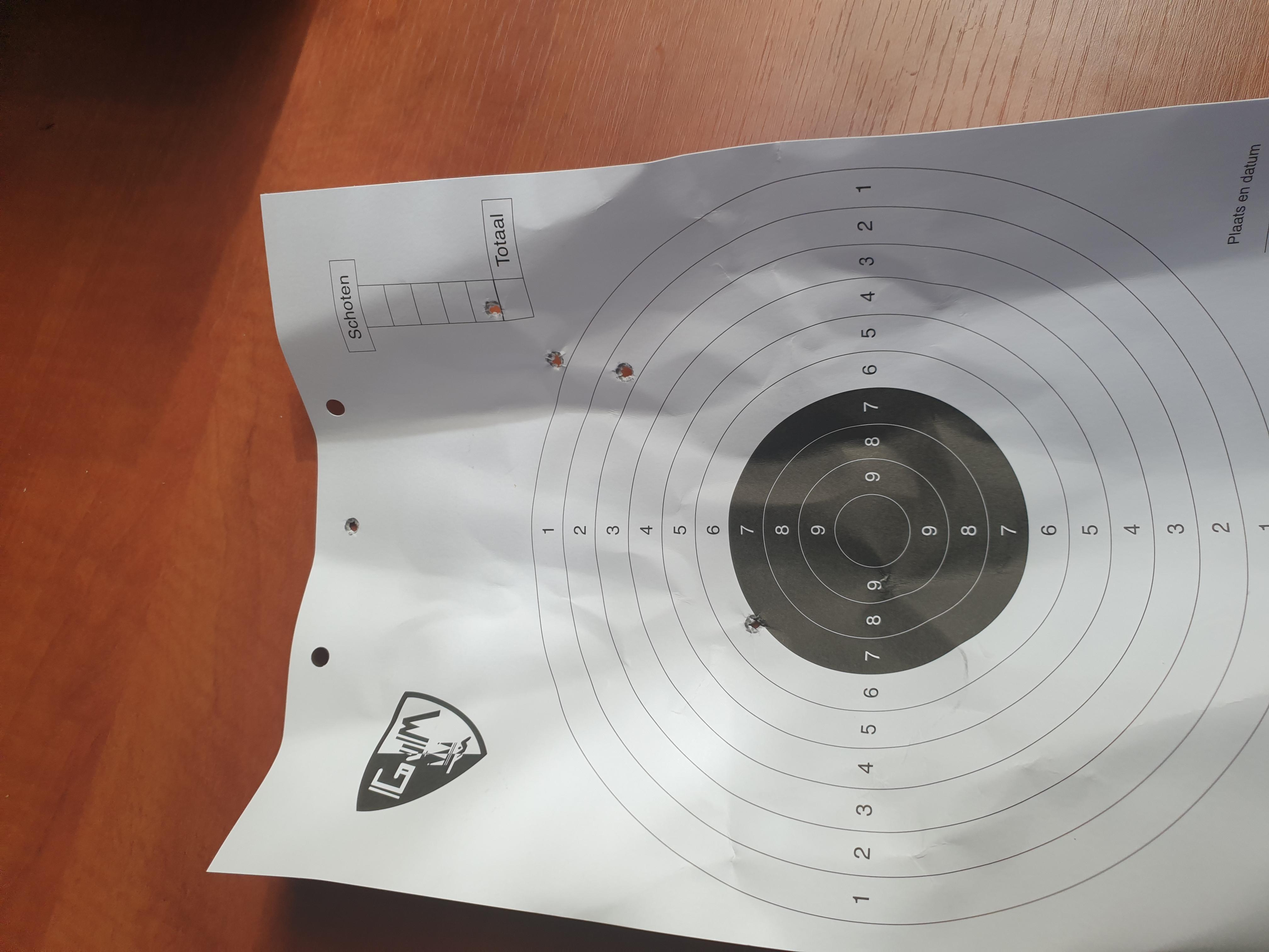hole: (501, 314, 524, 342), (634, 569, 657, 591), (702, 581, 725, 602), (763, 632, 787, 652), (908, 417, 924, 435)
